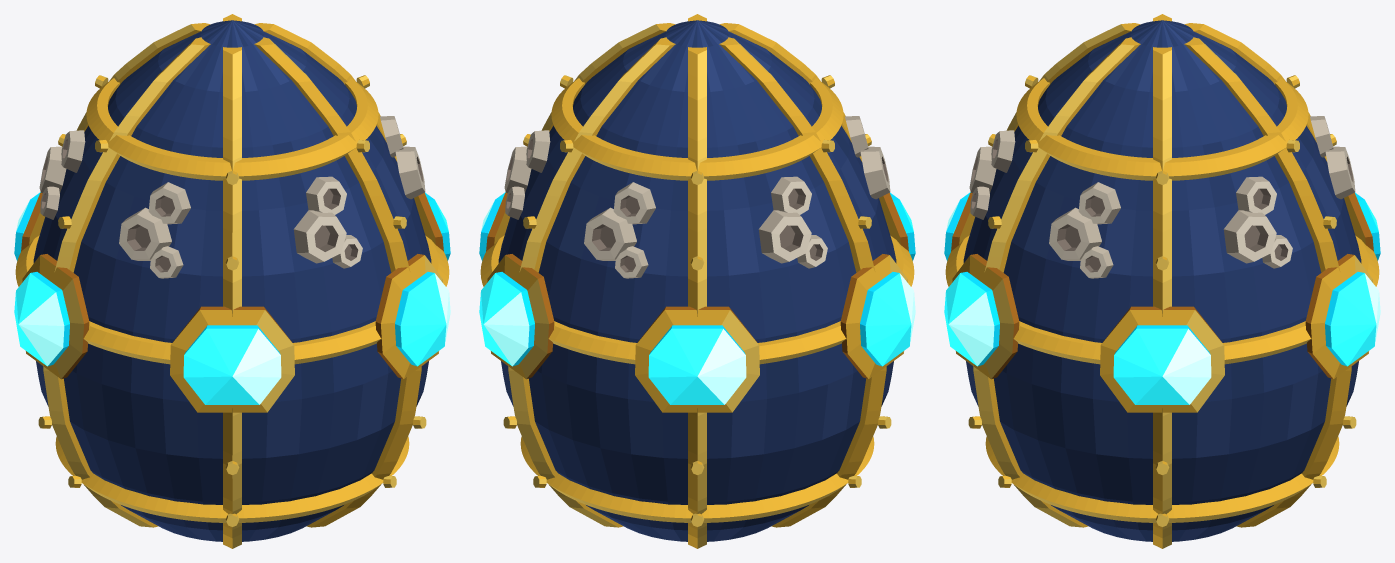
The model's file is 03_Rare_Treasure.glb.
3 renders of one model, left to right at view 1: azimuth 30°, elevation 25°; view 2: azimuth 150°, elevation 25°; view 3: azimuth 270°, elevation 25°, orthographic.
Parts seen in each view (by area): view 1: 03_Rare_Treasure_Shell, Treasure_GoldHoop_2, Treasure_GoldMeridian_3, Treasure_GoldMeridian_5, Treasure_GoldMeridian_4, Treasure_AquaGem_4, Treasure_GoldHoop_0, Treasure_GoldHoop_1, Treasure_GemBezel_4, Treasure_AquaGem_3, Treasure_AquaGem_5, Treasure_GemBezel_3 (+18 smaller); view 2: 03_Rare_Treasure_Shell, Treasure_GoldHoop_2, Treasure_GoldMeridian_1, Treasure_GoldMeridian_3, Treasure_GoldMeridian_2, Treasure_AquaGem_2, Treasure_GoldHoop_0, Treasure_GoldHoop_1, Treasure_GemBezel_2, Treasure_AquaGem_1, Treasure_AquaGem_3, Treasure_GemBezel_1 (+18 smaller); view 3: 03_Rare_Treasure_Shell, Treasure_GoldHoop_2, Treasure_GoldMeridian_1, Treasure_GoldMeridian_5, Treasure_GoldMeridian_0, Treasure_AquaGem_0, Treasure_GoldHoop_0, Treasure_GoldHoop_1, Treasure_GemBezel_0, Treasure_AquaGem_1, Treasure_AquaGem_5, Treasure_GemBezel_1 (+18 smaller).
Boxes of the visible parts, x1,y1,x2,y2 form: 03_Rare_Treasure_Shell: [33, 20, 431, 541]; Treasure_GoldHoop_2: [86, 78, 378, 180]; Treasure_GoldMeridian_3: [43, 37, 210, 527]; Treasure_GoldMeridian_5: [254, 37, 421, 527]; Treasure_GoldMeridian_4: [223, 47, 241, 548]; Treasure_AquaGem_4: [183, 325, 281, 404]; Treasure_GoldHoop_0: [55, 436, 409, 522]; Treasure_GoldHoop_1: [15, 235, 449, 364]; Treasure_GemBezel_4: [170, 306, 294, 412]; Treasure_AquaGem_3: [14, 272, 69, 366]; Treasure_AquaGem_5: [395, 272, 450, 366]; Treasure_GemBezel_3: [22, 254, 89, 379]; 03_Rare_Treasure_Shell: [498, 20, 896, 541]; Treasure_GoldHoop_2: [551, 78, 843, 180]; Treasure_GoldMeridian_1: [508, 37, 675, 527]; Treasure_GoldMeridian_3: [719, 37, 886, 527]; Treasure_GoldMeridian_2: [688, 47, 706, 548]; Treasure_AquaGem_2: [648, 325, 746, 404]; Treasure_GoldHoop_0: [520, 436, 874, 522]; Treasure_GoldHoop_1: [480, 235, 914, 364]; Treasure_GemBezel_2: [635, 306, 759, 412]; Treasure_AquaGem_1: [479, 272, 534, 366]; Treasure_AquaGem_3: [860, 272, 915, 366]; Treasure_GemBezel_1: [487, 254, 554, 379]; 03_Rare_Treasure_Shell: [963, 20, 1361, 541]; Treasure_GoldHoop_2: [1016, 78, 1308, 180]; Treasure_GoldMeridian_1: [1184, 37, 1351, 527]; Treasure_GoldMeridian_5: [973, 37, 1140, 527]; Treasure_GoldMeridian_0: [1153, 47, 1171, 548]; Treasure_AquaGem_0: [1113, 325, 1211, 404]; Treasure_GoldHoop_0: [985, 436, 1339, 522]; Treasure_GoldHoop_1: [945, 235, 1379, 364]; Treasure_GemBezel_0: [1100, 306, 1224, 412]; Treasure_AquaGem_1: [1325, 272, 1380, 366]; Treasure_AquaGem_5: [944, 272, 999, 366]; Treasure_GemBezel_1: [1305, 254, 1372, 379].
Size of the model in its own units: 4.18 by 4.64 by 3.69.
